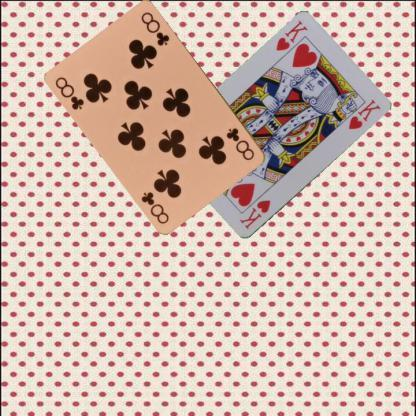8c: (52, 74, 86, 112), (223, 125, 256, 162)
Kh: (236, 197, 272, 231), (273, 18, 309, 52)
